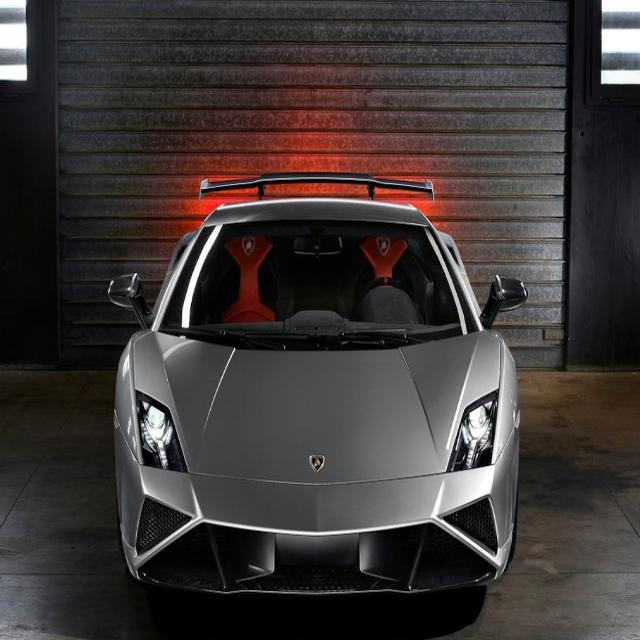front_bumper: (118, 432, 515, 596)
front_glass: (154, 218, 482, 354)
front_left_side_light: (444, 384, 503, 476)
front_left_side_mirror: (480, 276, 528, 327)
front_right_side_light: (135, 388, 188, 474)
front_right_side_mirror: (108, 267, 155, 335)
